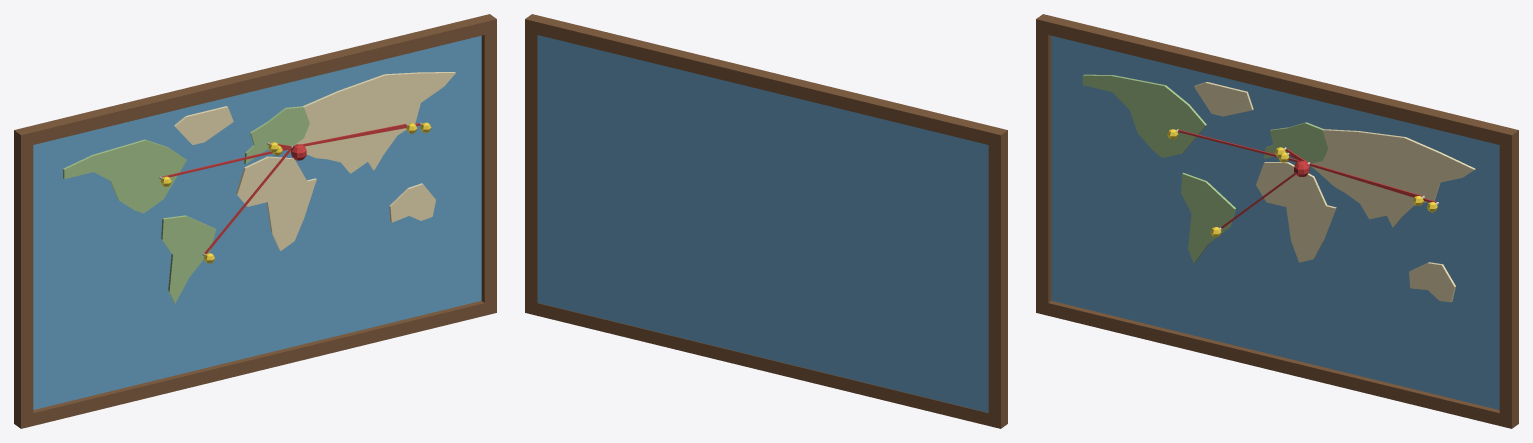
File: world_map.glb
The picture shows the model from 3 angles, left to right: view 1: azimuth 30°, elevation 25°; view 2: azimuth 150°, elevation 25°; view 3: azimuth 330°, elevation 25°; orthographic projection.
Parts seen in each view (by area): view 1: world_map; view 2: world_map; view 3: world_map.
Boxes of the visible parts, <box> form: world_map: <box>14,14,496,428</box>; world_map: <box>525,14,1007,428</box>; world_map: <box>1036,14,1518,428</box>.
Size of the model in its own units: 1.56 by 0.92 by 0.0968.
